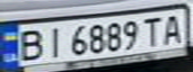6: (66, 21, 90, 56)
8: (103, 19, 127, 52), (87, 20, 109, 54)
9: (121, 17, 145, 51)
A: (157, 11, 190, 45)
B: (12, 26, 48, 62)
I: (42, 24, 69, 58)
T: (139, 14, 169, 47)
